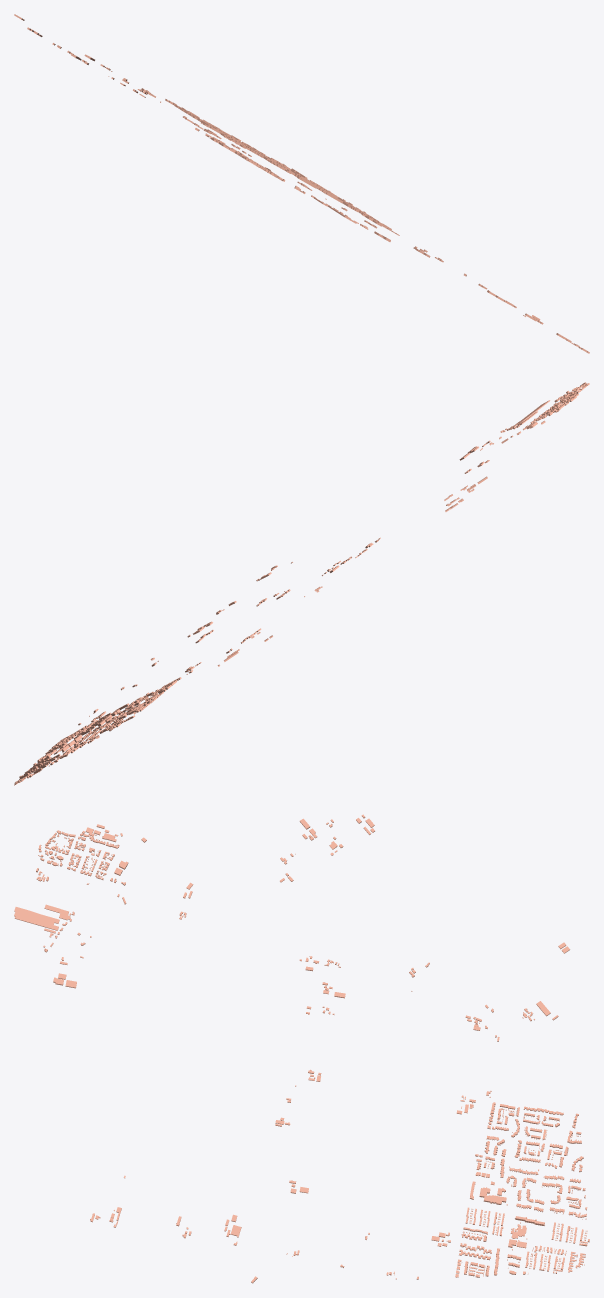
The picture shows the model from 3 angles, top to bottom: view 1: azimuth 30°, elevation 25°; view 2: azimuth 150°, elevation 25°; view 3: azimuth 270°, elevation 25°; orthographic projection. The views are drawn at different scales.
Bounding box in the file's own units: 1942 × 1477 × 2636.
